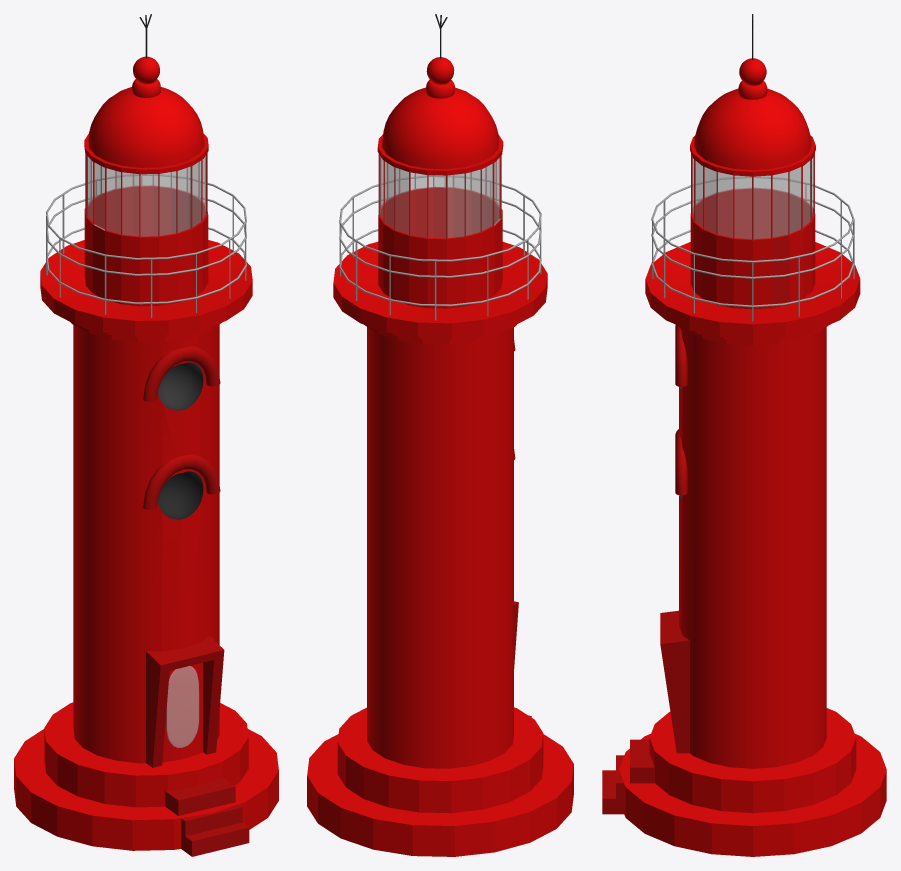
The model's file is lighthouse.fbx.
3 renders of one model, left to right at view 1: azimuth 30°, elevation 25°; view 2: azimuth 150°, elevation 25°; view 3: azimuth 270°, elevation 25°, orthographic.
Visible parts, largest first — view 1: pCylinder40, pSphere2, pCube3, pSphere1, pCube6, pTorus5, pTorus6, pCube4, pCube5, pTorus1, pTorus2, pTorus3 (+1 smaller); view 2: pCylinder40, pSphere2, pTorus1, pTorus2, pTorus3, pSphere3; view 3: pCylinder40, pSphere2, pCube3, pTorus1, pCube6, pTorus2, pTorus3, pCube4, pTorus6, pTorus5, pSphere3.
Part boxes in pixels (<box>): pCylinder40: <box>14,155,278,850</box>; pSphere2: <box>84,87,208,174</box>; pCube3: <box>146,635,224,767</box>; pSphere1: <box>166,666,199,747</box>; pCube6: <box>165,777,235,815</box>; pTorus5: <box>143,346,220,401</box>; pTorus6: <box>143,454,220,509</box>; pCube4: <box>181,822,249,856</box>; pCube5: <box>181,804,242,836</box>; pTorus1: <box>46,174,246,259</box>; pTorus2: <box>46,195,246,275</box>; pTorus3: <box>46,227,246,304</box>; pCylinder40: <box>307,156,573,856</box>; pSphere2: <box>377,87,503,175</box>; pTorus1: <box>339,175,541,261</box>; pTorus2: <box>339,196,541,277</box>; pTorus3: <box>339,229,541,306</box>; pSphere3: <box>426,57,454,84</box>; pCylinder40: <box>619,158,886,856</box>; pSphere2: <box>690,88,815,176</box>; pCube3: <box>660,610,689,753</box>; pTorus1: <box>651,176,854,262</box>; pCube6: <box>630,739,654,783</box>; pTorus2: <box>651,198,854,278</box>; pTorus3: <box>651,230,854,307</box>; pCube4: <box>602,770,624,814</box>; pTorus6: <box>675,429,687,495</box>; pTorus5: <box>675,325,687,386</box>; pSphere3: <box>739,58,766,85</box>.
Bounding box in the file's own units: 3.63 × 11.73 × 3.85.
